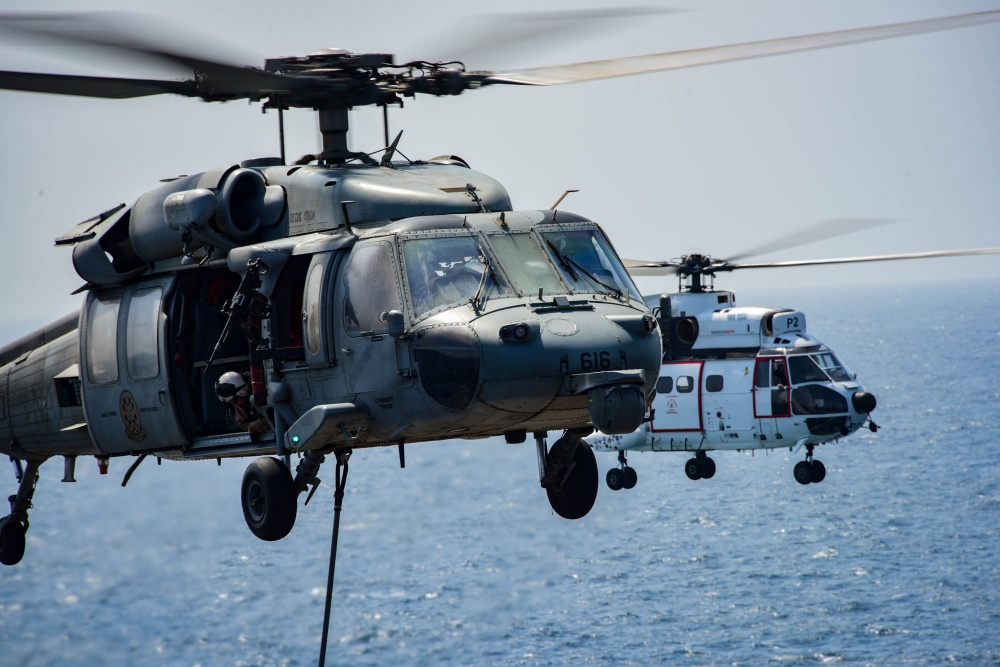MilitaryHelicopter: (11, 23, 633, 550), (665, 234, 907, 509)
